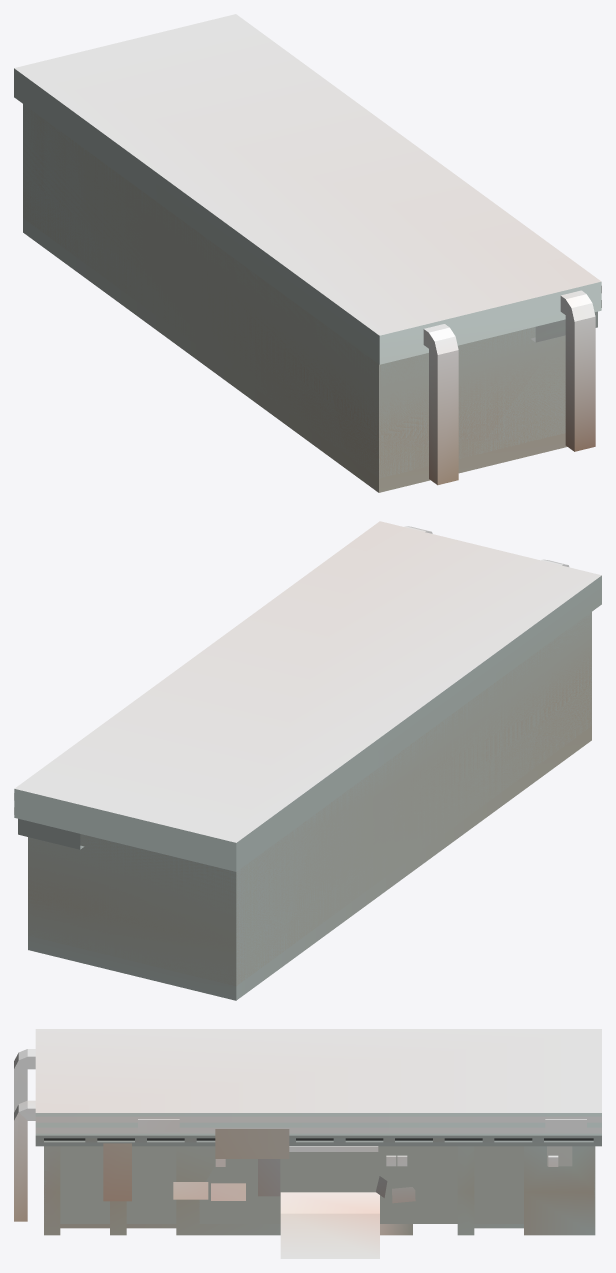
The model's file is workshop1.dae.
3 renders of one model, top to bottom at view 1: azimuth 30°, elevation 25°; view 2: azimuth 150°, elevation 25°; view 3: azimuth 270°, elevation 25°, orthographic. The views are drawn at different scales.
Parts seen in each view (by area): view 1: Colmesh-1, workshop1_a200, workshop1_a050; view 2: Colmesh-1, workshop1_a200, workshop1_a050; view 3: Colmesh-1, workshop1_a200, workshop1_a050, workshop1_a100.
Boxes of the visible parts, left/top/right/bottom form: Colmesh-1: left=14, top=14, right=601, bottom=484; workshop1_a200: left=14, top=69, right=601, bottom=492; workshop1_a050: left=23, top=104, right=565, bottom=477; Colmesh-1: left=14, top=521, right=601, bottom=985; workshop1_a200: left=14, top=531, right=601, bottom=1000; workshop1_a050: left=28, top=612, right=591, bottom=986; Colmesh-1: left=14, top=1029, right=601, bottom=1258; workshop1_a200: left=14, top=1056, right=601, bottom=1235; workshop1_a050: left=44, top=1146, right=595, bottom=1223; workshop1_a100: left=14, top=1061, right=571, bottom=1218.
Size of the model in its own units: 14.88 by 35.53 by 8.38.
